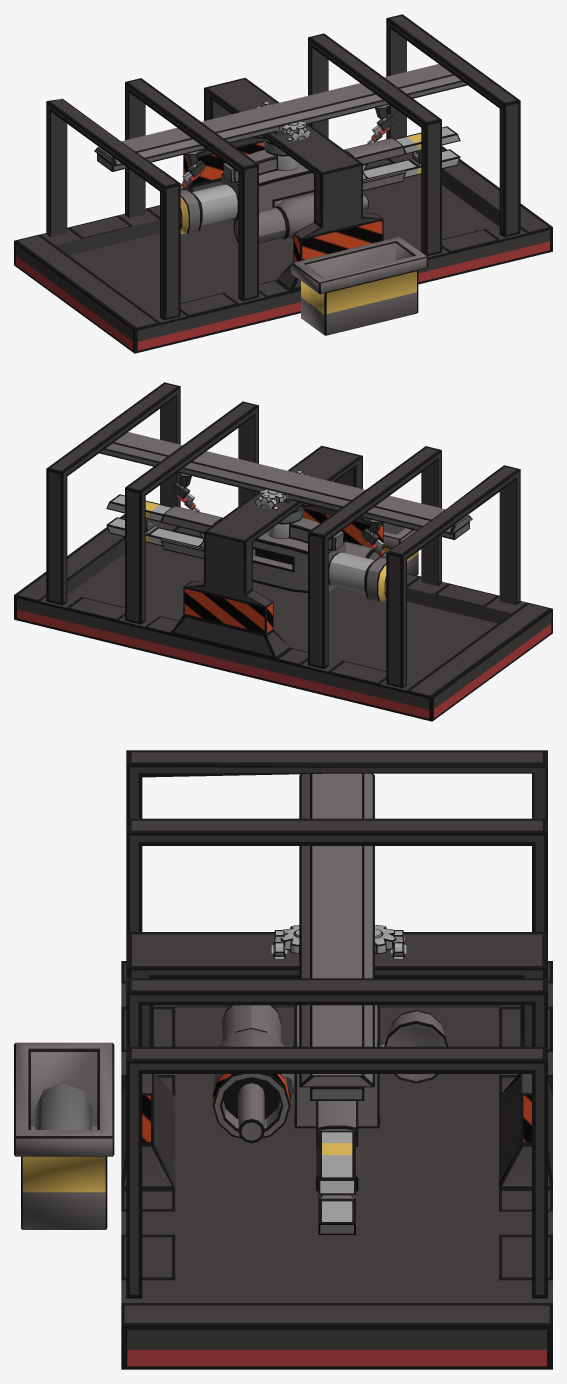
File: Environment2_Cover_Railgun assembly.fbx
3 renders of one model, top to bottom at view 1: azimuth 30°, elevation 25°; view 2: azimuth 150°, elevation 25°; view 3: azimuth 270°, elevation 25°, orthographic. The views are drawn at different scales.
Visible parts, largest first — view 1: Railgun base, Railgun, Ammo Case, Laser movable frame, Claw; view 2: Railgun base, Railgun, Laser movable frame, Ammo Case, Claw; view 3: Railgun base, Laser movable frame, Railgun, Ammo Case, Ammo.
Boxes of the visible parts, x1,y1,x2,y2 form: Railgun base: (14,14,552,353); Railgun: (180,126,460,245); Ammo Case: (291,236,427,335); Laser movable frame: (94,64,467,171); Claw: (264,138,300,170); Railgun base: (14,382,552,721); Railgun: (106,494,386,601); Laser movable frame: (99,432,472,539); Ammo Case: (383,523,418,575); Claw: (266,506,302,538); Railgun base: (121,750,552,1369); Laser movable frame: (299,773,374,1100); Railgun: (212,1005,448,1234); Ammo Case: (14,1042,114,1229); Ammo: (35,1082,91,1129).
Size of the model in its own units: 20 by 7.29 by 12.49.
